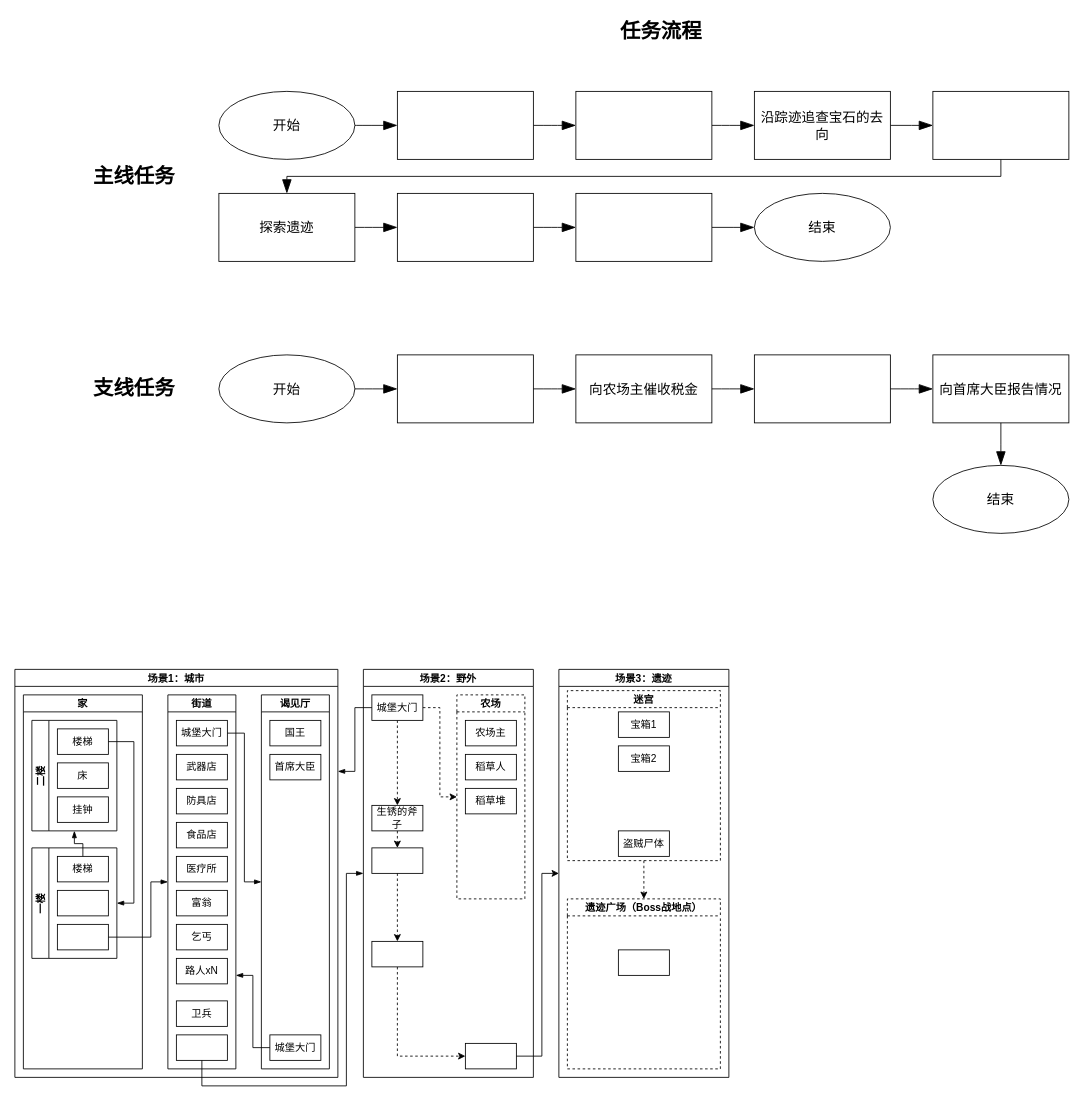
The diagram is 1084 pixels wide and 1108 high, and some of its shapes have lost their labels. Here are the shapes that lost their labels. From the top down, the centre of each, then its label:
point 465,125: 参加授勋仪式
point 643,125: 与国王交谈
point 1000,125: 解开谜题，打开遗迹入口
point 465,227: 打败熊怪
point 643,227: 向国王复命
point 465,388: 与首席大臣交谈
point 822,388: 赶走乌鸦
point 397,860: 砍树过河
point 82,903: 妈妈
point 82,937: 门口
point 397,954: 残缺的石锤
point 643,962: 巨大棕熊
point 201,1047: 城市大门
point 490,1056: 遗迹入口
